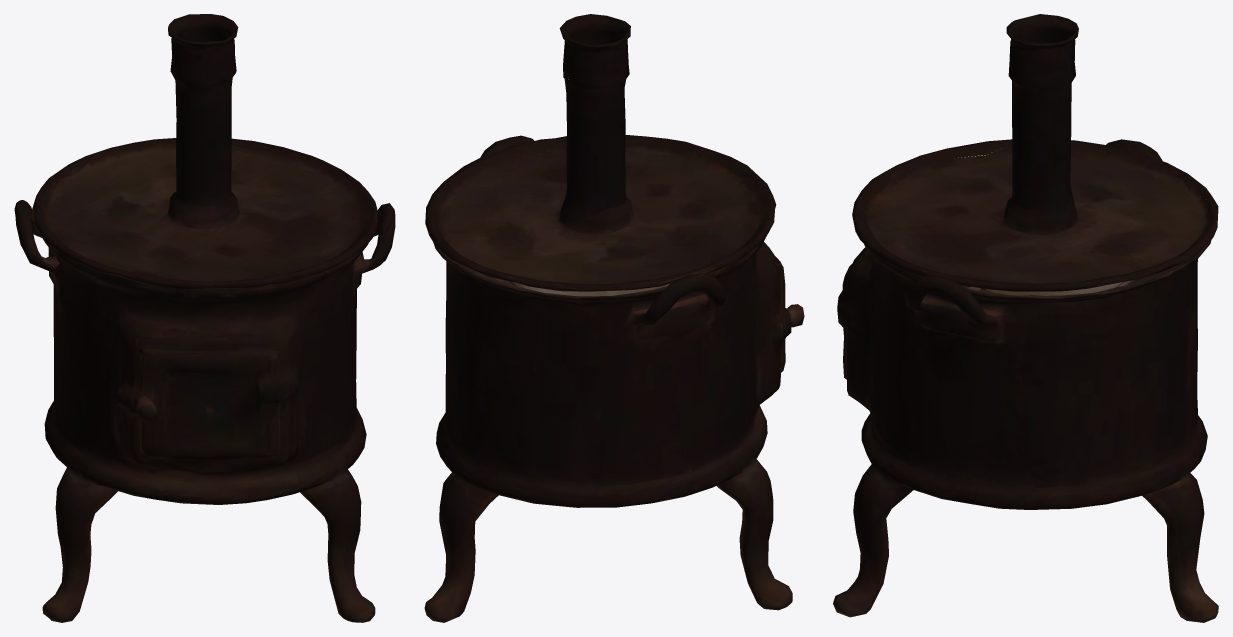
The model's file is estufa.glb.
3 renders of one model, left to right at view 1: azimuth 30°, elevation 25°; view 2: azimuth 150°, elevation 25°; view 3: azimuth 270°, elevation 25°, orthographic. The views are drawn at different scales.
Parts seen in each view (by area): view 1: geometry_0; view 2: geometry_0; view 3: geometry_0.
Part boxes in pixels (x1,y1,x2,y2): geometry_0: (14,14,395,622); geometry_0: (424,14,804,622); geometry_0: (833,14,1218,622).
Bounding box in the file's own units: 0.6 × 0.95 × 0.6.
Materials: 1 (1 with a texture image).
